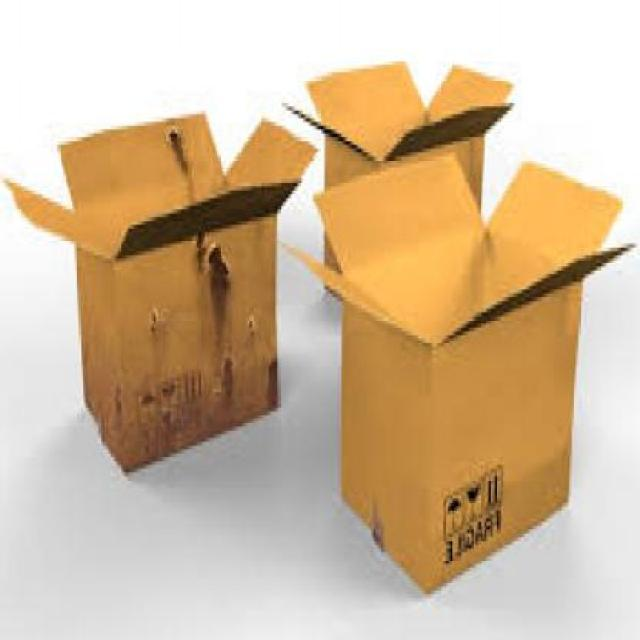CARDBOARD: (282, 160, 638, 598), (6, 103, 320, 472), (310, 57, 516, 297)
